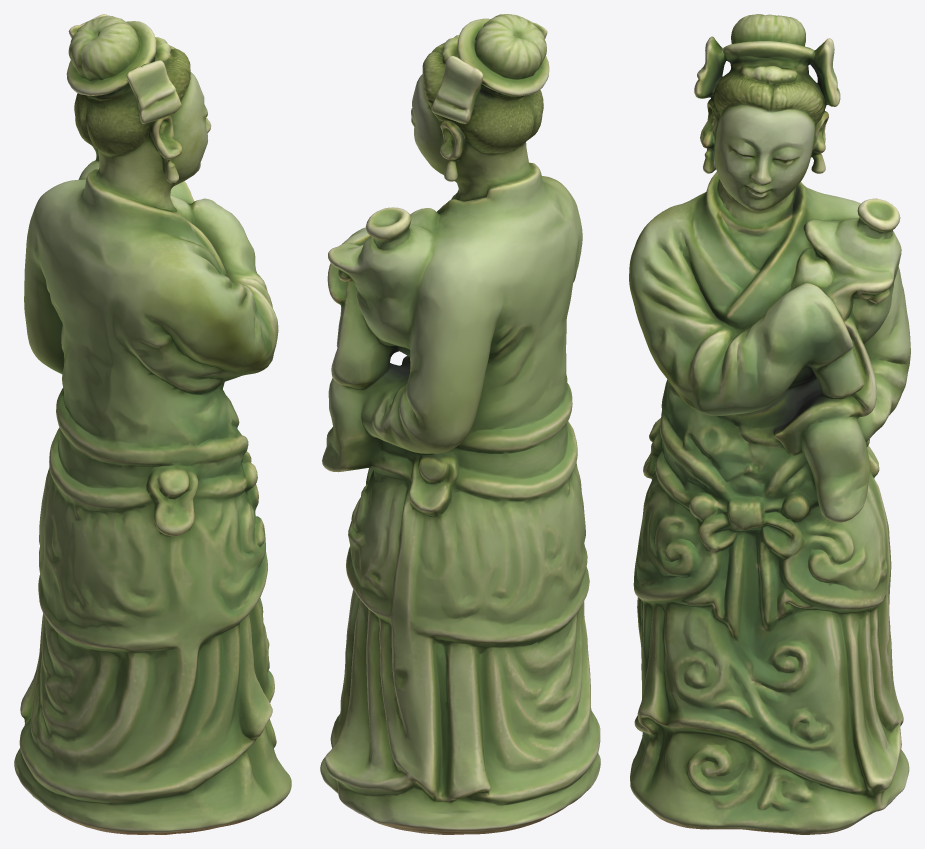
File: 7965ba11-cd13-44b7-910d-3016cfab4151.glb
The picture shows the model from 3 angles, left to right: view 1: azimuth 30°, elevation 25°; view 2: azimuth 150°, elevation 25°; view 3: azimuth 270°, elevation 25°; orthographic projection. The views are drawn at different scales.
Parts seen in each view (by area): view 1: tripo_node_a810ab5e-c5b5-40e4-8cbf-72e3b42def2b; view 2: tripo_node_a810ab5e-c5b5-40e4-8cbf-72e3b42def2b; view 3: tripo_node_a810ab5e-c5b5-40e4-8cbf-72e3b42def2b.
Part boxes in pixels (<box>): tripo_node_a810ab5e-c5b5-40e4-8cbf-72e3b42def2b: <box>14,14,291,834</box>; tripo_node_a810ab5e-c5b5-40e4-8cbf-72e3b42def2b: <box>320,14,600,834</box>; tripo_node_a810ab5e-c5b5-40e4-8cbf-72e3b42def2b: <box>629,14,910,834</box>.
Size of the model in its own units: 0.304 by 1 by 0.3402.
Materials: 1 (1 with a texture image).
